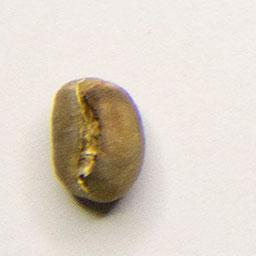peaberry: (47, 72, 149, 207)
